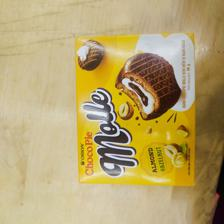Molle: (73, 30, 196, 189)
